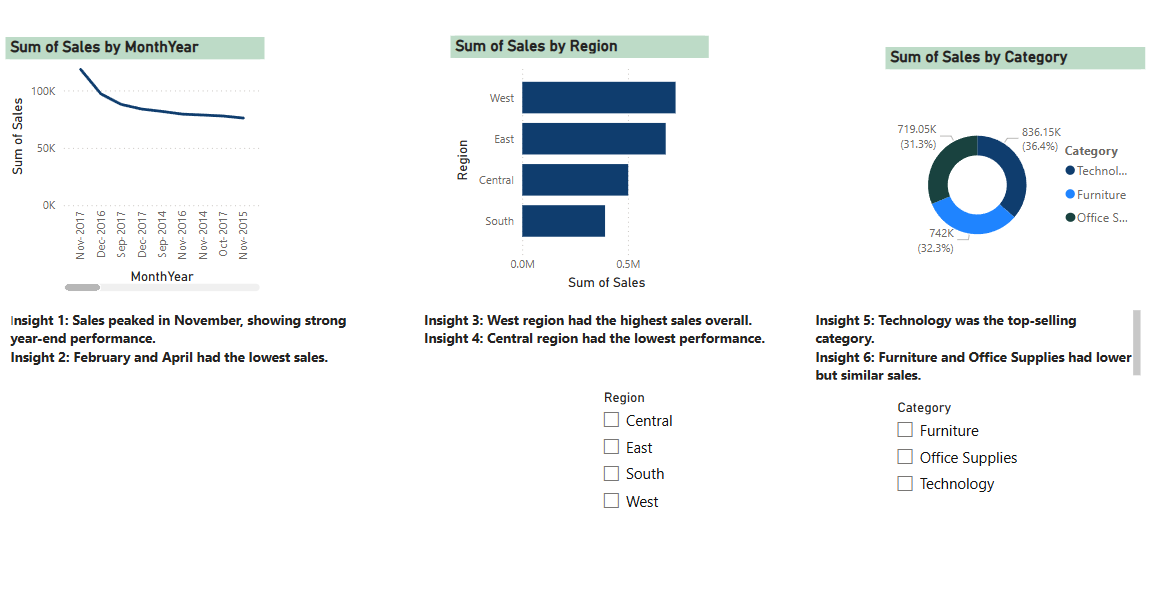

What the dashboard file says about the page in this screenshot:
{"tool":"powerbi","page":{"name":"Page 1","canvas":[1280,720],"ordinal":0},"visuals":[{"type":"lineChart","fields":{"Category":["Superstore_sales (2).MonthYear"],"Y":["Sum(Superstore_sales (2).Sales)"]},"box":[19.2,53.5,279.9,279.9],"z":0},{"type":"barChart","fields":{"Category":["Superstore_sales (2).Region"],"Y":["Sum(Superstore_sales (2).Sales)"]},"box":[499.7,52.7,279.6,279.6],"z":1},{"type":"donutChart","fields":{"Category":["Superstore_sales (2).Category"],"Y":["Sum(Superstore_sales (2).Sales)"]},"box":[969.7,64.8,280.9,279.6],"z":2},{"type":"slicer","fields":{"Values":["Superstore_sales (2).Region"]},"box":[652.3,429.5,280.9,279.6],"z":3},{"type":"slicer","fields":{"Values":["Superstore_sales (2).Category"]},"box":[969.7,440.3,280.9,279.6],"z":4},{"type":"textbox","box":[373.2,650.4,279.9,35.7],"z":6},{"type":"textbox","box":[18.9,344.4,383.5,74.3],"z":7},{"type":"textbox","box":[465.9,344.4,391.6,74.3],"z":8},{"type":"textbox","box":[888.6,344.4,361.9,85.1],"z":9}]}

Visuals, with their boxes on the page's 1280x720 design canvas (x1, y1, x2, y2). These are canvas units, not pixel positions in the 1149x612 screenshot, which may show the page scaled, cropped or inside an application window:
lineChart - Superstore_sales (2).MonthYear x Sum(Superstore_sales (2).Sales): select_region(19, 54, 299, 333)
barChart - Superstore_sales (2).Region x Sum(Superstore_sales (2).Sales): select_region(500, 53, 779, 332)
donutChart - Superstore_sales (2).Category x Sum(Superstore_sales (2).Sales): select_region(970, 65, 1251, 344)
slicer - Superstore_sales (2).Region: select_region(652, 430, 933, 709)
slicer - Superstore_sales (2).Category: select_region(970, 440, 1251, 720)
textbox: select_region(373, 650, 653, 686)
textbox: select_region(19, 344, 402, 419)
textbox: select_region(466, 344, 858, 419)
textbox: select_region(889, 344, 1250, 430)
